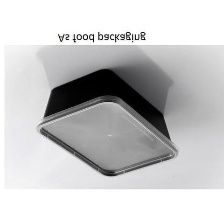plastic_box: (28, 65, 182, 183)
